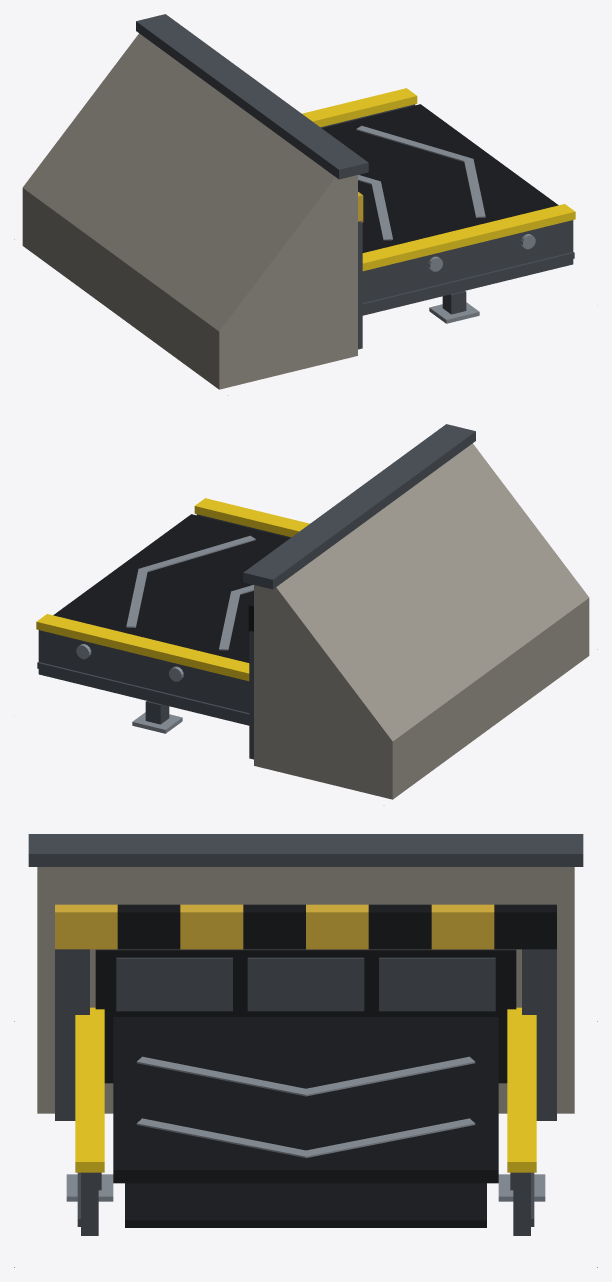
The model's file is convoyeur_tunnel_sortie_t1.glb.
3 renders of one model, top to bottom at view 1: azimuth 30°, elevation 25°; view 2: azimuth 150°, elevation 25°; view 3: azimuth 270°, elevation 25°, orthographic. The views are drawn at different scales.
Parts seen in each view (by area): view 1: bouche.012, pieces_acier_sombre.022, pieces_noir.030, pieces_rive_t1.006, bande_acier.048, pieces_acier.054; view 2: bouche.012, pieces_acier_sombre.022, pieces_noir.030, pieces_rive_t1.006, bande_acier.048, pieces_acier.054; view 3: pieces_noir.030, pieces_acier_sombre.022, bouche.012, pieces_jaune.024, pieces_rive_t1.006, bande_acier.048, pieces_acier.054.
Boxes of the visible parts, x1,y1,x2,y2 form: bouche.012: [22, 33, 357, 389]; pieces_acier_sombre.022: [136, 14, 574, 349]; pieces_noir.030: [322, 104, 558, 252]; pieces_rive_t1.006: [302, 88, 575, 271]; bande_acier.048: [356, 125, 485, 240]; pieces_acier.054: [428, 234, 535, 323]; bouche.012: [254, 443, 589, 799]; pieces_acier_sombre.022: [37, 424, 475, 759]; pieces_noir.030: [53, 514, 289, 662]; pieces_rive_t1.006: [36, 498, 309, 681]; bande_acier.048: [126, 535, 255, 650]; pieces_acier.054: [76, 644, 183, 733]; pieces_noir.030: [95, 904, 556, 1227]; pieces_acier_sombre.022: [28, 834, 583, 1235]; bouche.012: [37, 867, 574, 1113]; pieces_jaune.024: [55, 904, 494, 949]; pieces_rive_t1.006: [75, 1007, 536, 1172]; bande_acier.048: [136, 1056, 475, 1157]; pieces_acier.054: [66, 1174, 545, 1201].
Size of the model in its own units: 1 by 0.5 by 1.
